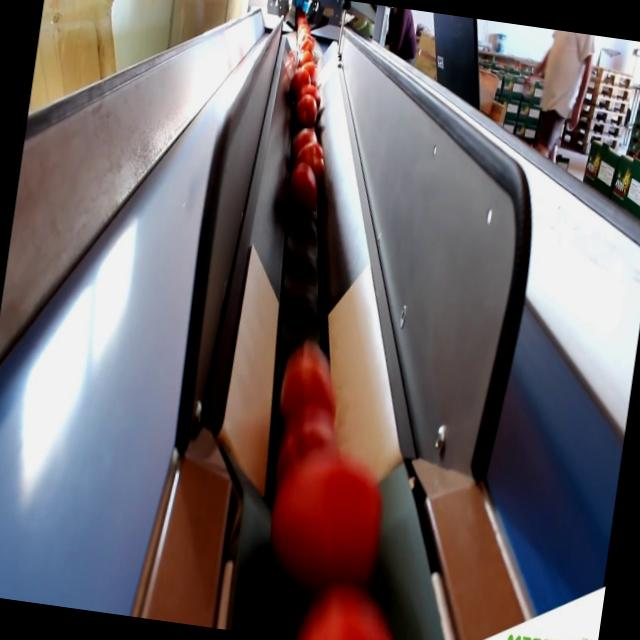Tomato: (266, 454, 390, 590), (280, 342, 346, 418), (309, 592, 396, 640), (281, 420, 337, 468), (285, 162, 322, 212), (288, 90, 320, 136), (296, 140, 330, 170), (292, 126, 318, 150), (290, 68, 312, 90), (300, 62, 318, 85), (299, 54, 314, 64)
